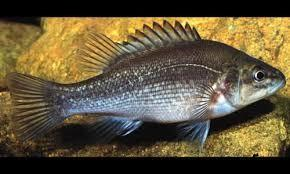Silver Perch: (4, 19, 289, 150)
